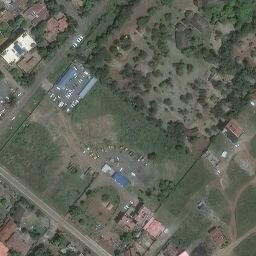tree: (67, 205, 80, 216), (119, 232, 130, 241), (146, 151, 156, 160), (101, 193, 110, 202), (37, 47, 46, 56), (155, 118, 163, 127), (163, 97, 171, 105), (174, 144, 182, 151), (139, 50, 146, 58), (110, 46, 117, 54), (185, 93, 192, 100), (209, 135, 216, 142), (78, 218, 85, 225), (145, 189, 152, 196), (187, 64, 193, 71), (196, 113, 203, 119), (180, 95, 185, 101), (153, 87, 157, 92)
